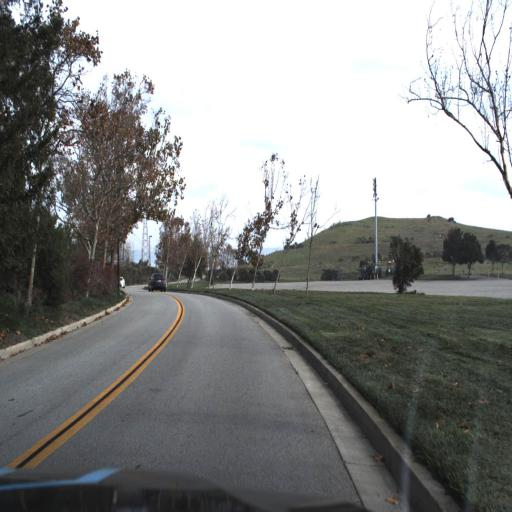car: (146, 269, 169, 294)
